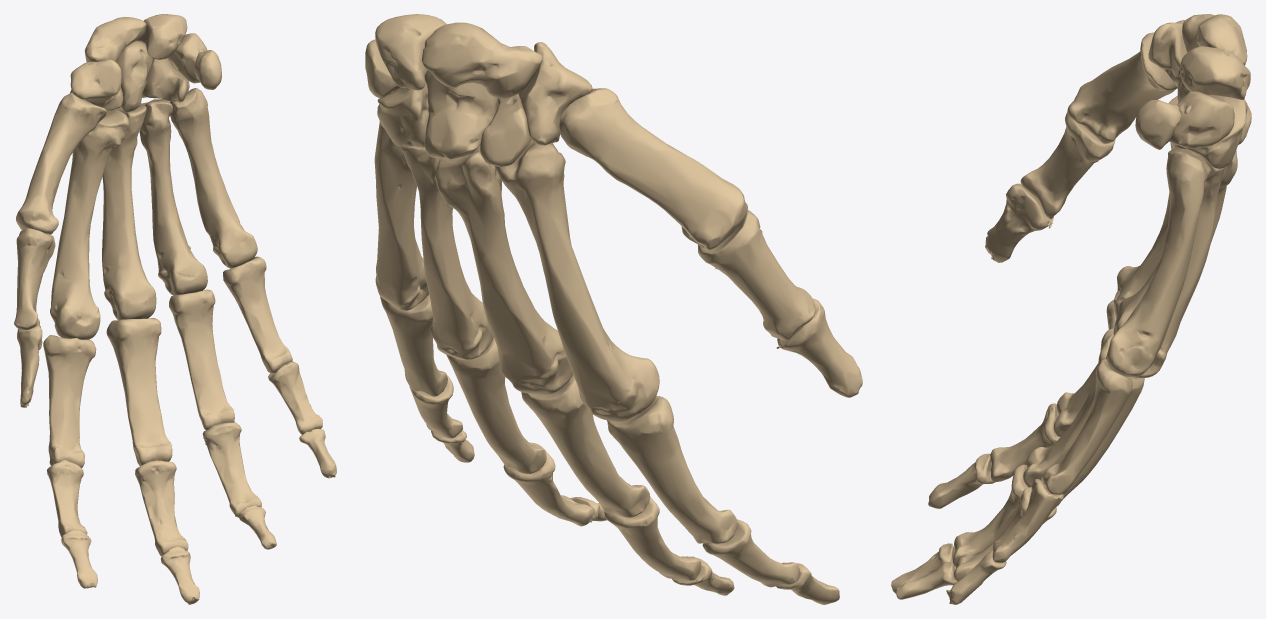
File: explorar-hand.glb
3 views of the same model, side by side, from view 1: azimuth 30°, elevation 25°; view 2: azimuth 150°, elevation 25°; view 3: azimuth 270°, elevation 25° (orthographic). The views are drawn at different scales.
Parts seen in each view (by area): view 1: hand__falanges_medio, hand__falanges_anular, hand__metacarpiano_ii, hand__falanges_indice, hand__metacarpiano_iii, hand__falanges_menique, hand__metacarpiano_iv, hand__metacarpiano_v, hand__metacarpiano_i, hand__falanges_pulgar, hand__trapecio, hand__escafoides (+5 smaller); view 2: hand__metacarpiano_ii, hand__metacarpiano_iii, hand__metacarpiano_i, hand__falanges_indice, hand__falanges_medio, hand__falanges_pulgar, hand__metacarpiano_iv, hand__falanges_anular, hand__metacarpiano_v, hand__escafoides, hand__falanges_menique, hand__grande (+5 smaller); view 3: hand__metacarpiano_v, hand__falanges_menique, hand__falanges_pulgar, hand__metacarpiano_i, hand__falanges_medio, hand__falanges_indice, hand__falanges_anular, hand__metacarpiano_iv, hand__semilunar, hand__piramidal, hand__escafoides, hand__metacarpiano_ii (+4 smaller).
Part boxes in pixels (left/top/right/bottom): hand__falanges_medio: left=106, top=318, right=199, bottom=604; hand__falanges_anular: left=169, top=289, right=276, bottom=549; hand__metacarpiano_ii: left=50, top=109, right=128, bottom=339; hand__falanges_indice: left=43, top=335, right=97, bottom=588; hand__metacarpiano_iii: left=102, top=105, right=156, bottom=320; hand__falanges_menique: left=223, top=256, right=336, bottom=478; hand__metacarpiano_iv: left=139, top=99, right=207, bottom=295; hand__metacarpiano_v: left=170, top=88, right=257, bottom=268; hand__metacarpiano_i: left=16, top=92, right=106, bottom=234; hand__falanges_pulgar: left=14, top=228, right=55, bottom=407; hand__trapecio: left=70, top=59, right=121, bottom=107; hand__escafoides: left=84, top=17, right=146, bottom=62; hand__metacarpiano_ii: left=495, top=140, right=659, bottom=421; hand__metacarpiano_iii: left=435, top=144, right=572, bottom=394; hand__metacarpiano_i: left=559, top=88, right=747, bottom=250; hand__falanges_indice: left=607, top=395, right=839, bottom=604; hand__falanges_medio: left=521, top=374, right=734, bottom=595; hand__falanges_pulgar: left=698, top=210, right=862, bottom=397; hand__metacarpiano_iv: left=401, top=146, right=493, bottom=360; hand__falanges_anular: left=446, top=337, right=606, bottom=526; hand__metacarpiano_v: left=374, top=121, right=428, bottom=310; hand__escafoides: left=421, top=22, right=542, bottom=98; hand__falanges_menique: left=380, top=294, right=474, bottom=462; hand__grande: left=424, top=70, right=498, bottom=159; hand__metacarpiano_v: left=1106, top=148, right=1210, bottom=376; hand__falanges_menique: left=946, top=359, right=1132, bottom=604; hand__falanges_pulgar: left=985, top=112, right=1115, bottom=262; hand__metacarpiano_i: left=1067, top=32, right=1177, bottom=143; hand__falanges_medio: left=891, top=328, right=1113, bottom=593; hand__falanges_indice: left=928, top=300, right=1116, bottom=508; hand__falanges_anular: left=895, top=356, right=1144, bottom=599; hand__metacarpiano_iv: left=1134, top=152, right=1226, bottom=378; hand__semilunar: left=1180, top=46, right=1250, bottom=99; hand__piramidal: left=1169, top=91, right=1234, bottom=148; hand__escafoides: left=1182, top=14, right=1247, bottom=65; hand__metacarpiano_ii: left=1114, top=96, right=1178, bottom=318.
Bounding box in the file's own units: 0.1051 × 0.159 × 0.0853.
